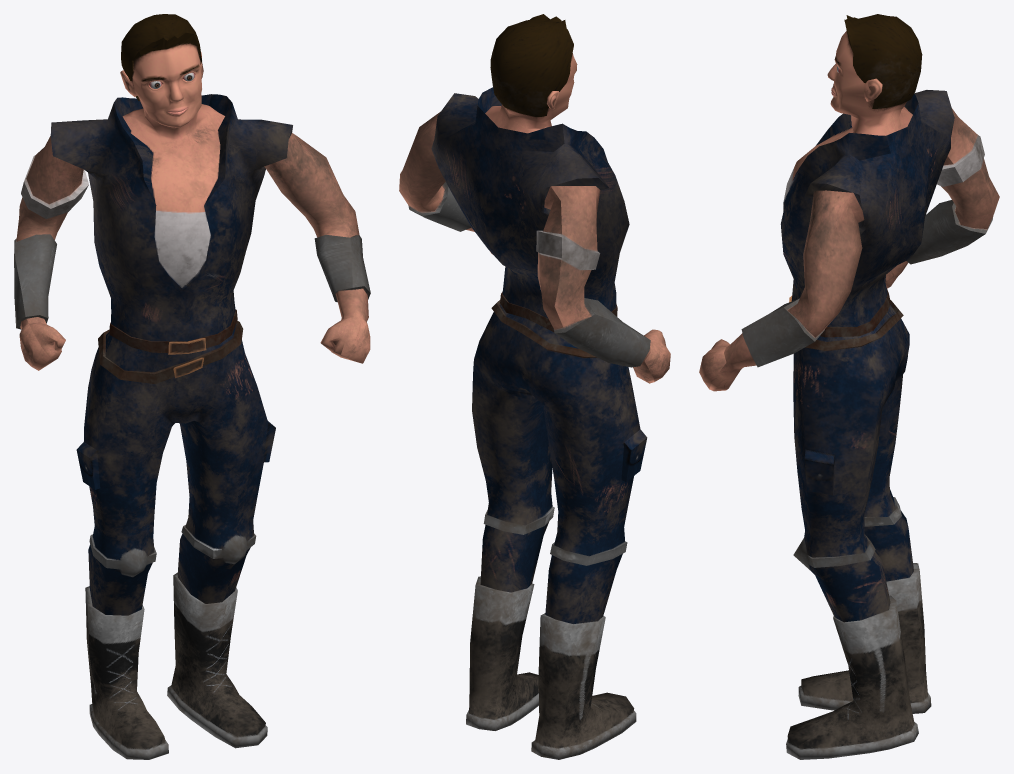
The model's file is Anim_ataque_d1_jugador.0014.obj.
The picture shows the model from 3 angles, left to right: view 1: azimuth 30°, elevation 25°; view 2: azimuth 150°, elevation 25°; view 3: azimuth 270°, elevation 25°; orthographic projection.
Parts seen in each view (by area): view 1: polySurface1; view 2: polySurface1; view 3: polySurface1.
Boxes of the visible parts, x1=… form: polySurface1: x1=14, y1=14, x2=370, y2=759; polySurface1: x1=399, y1=14, x2=670, y2=759; polySurface1: x1=699, y1=14, x2=999, y2=759.
Size of the model in its own units: 4.22 by 9.61 by 3.69.
